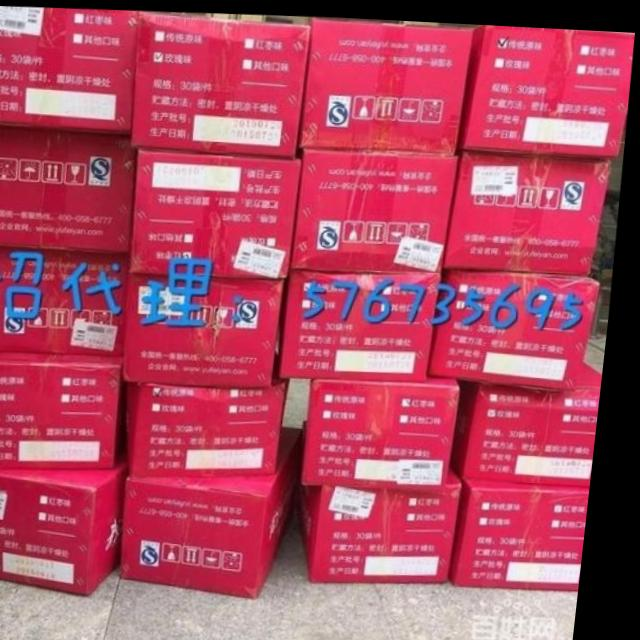box: (133, 423, 312, 597), (134, 13, 311, 156), (459, 20, 634, 152), (303, 17, 473, 148), (135, 145, 306, 275), (294, 144, 463, 267), (434, 265, 607, 385), (450, 146, 614, 268), (313, 457, 473, 577), (130, 269, 292, 385), (283, 265, 448, 375), (0, 461, 135, 594), (467, 355, 610, 480), (0, 124, 139, 252), (311, 372, 470, 483), (0, 6, 138, 133), (0, 349, 135, 468), (136, 373, 297, 472), (460, 476, 600, 585), (0, 244, 136, 354)
